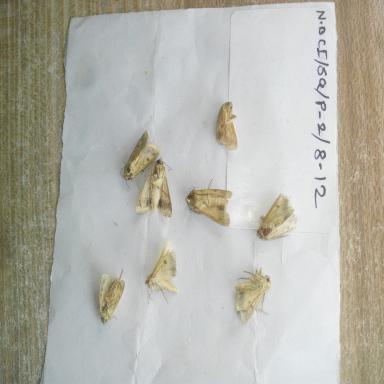abw: (182, 173, 236, 235), (224, 262, 276, 326), (117, 125, 165, 193), (142, 237, 184, 308), (136, 152, 175, 225), (250, 190, 299, 247), (92, 263, 132, 331), (208, 97, 243, 155)
